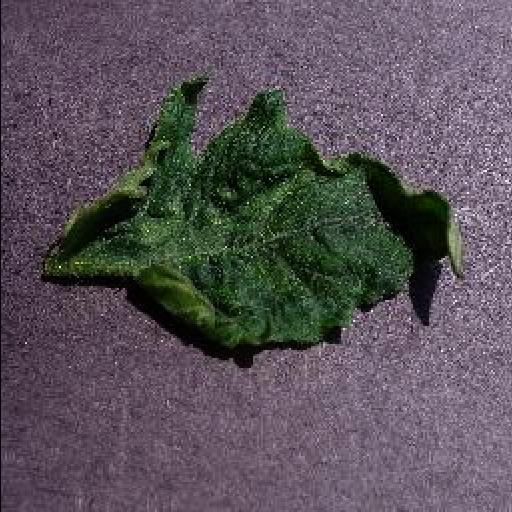disease_tomato: (56, 78, 464, 350)
